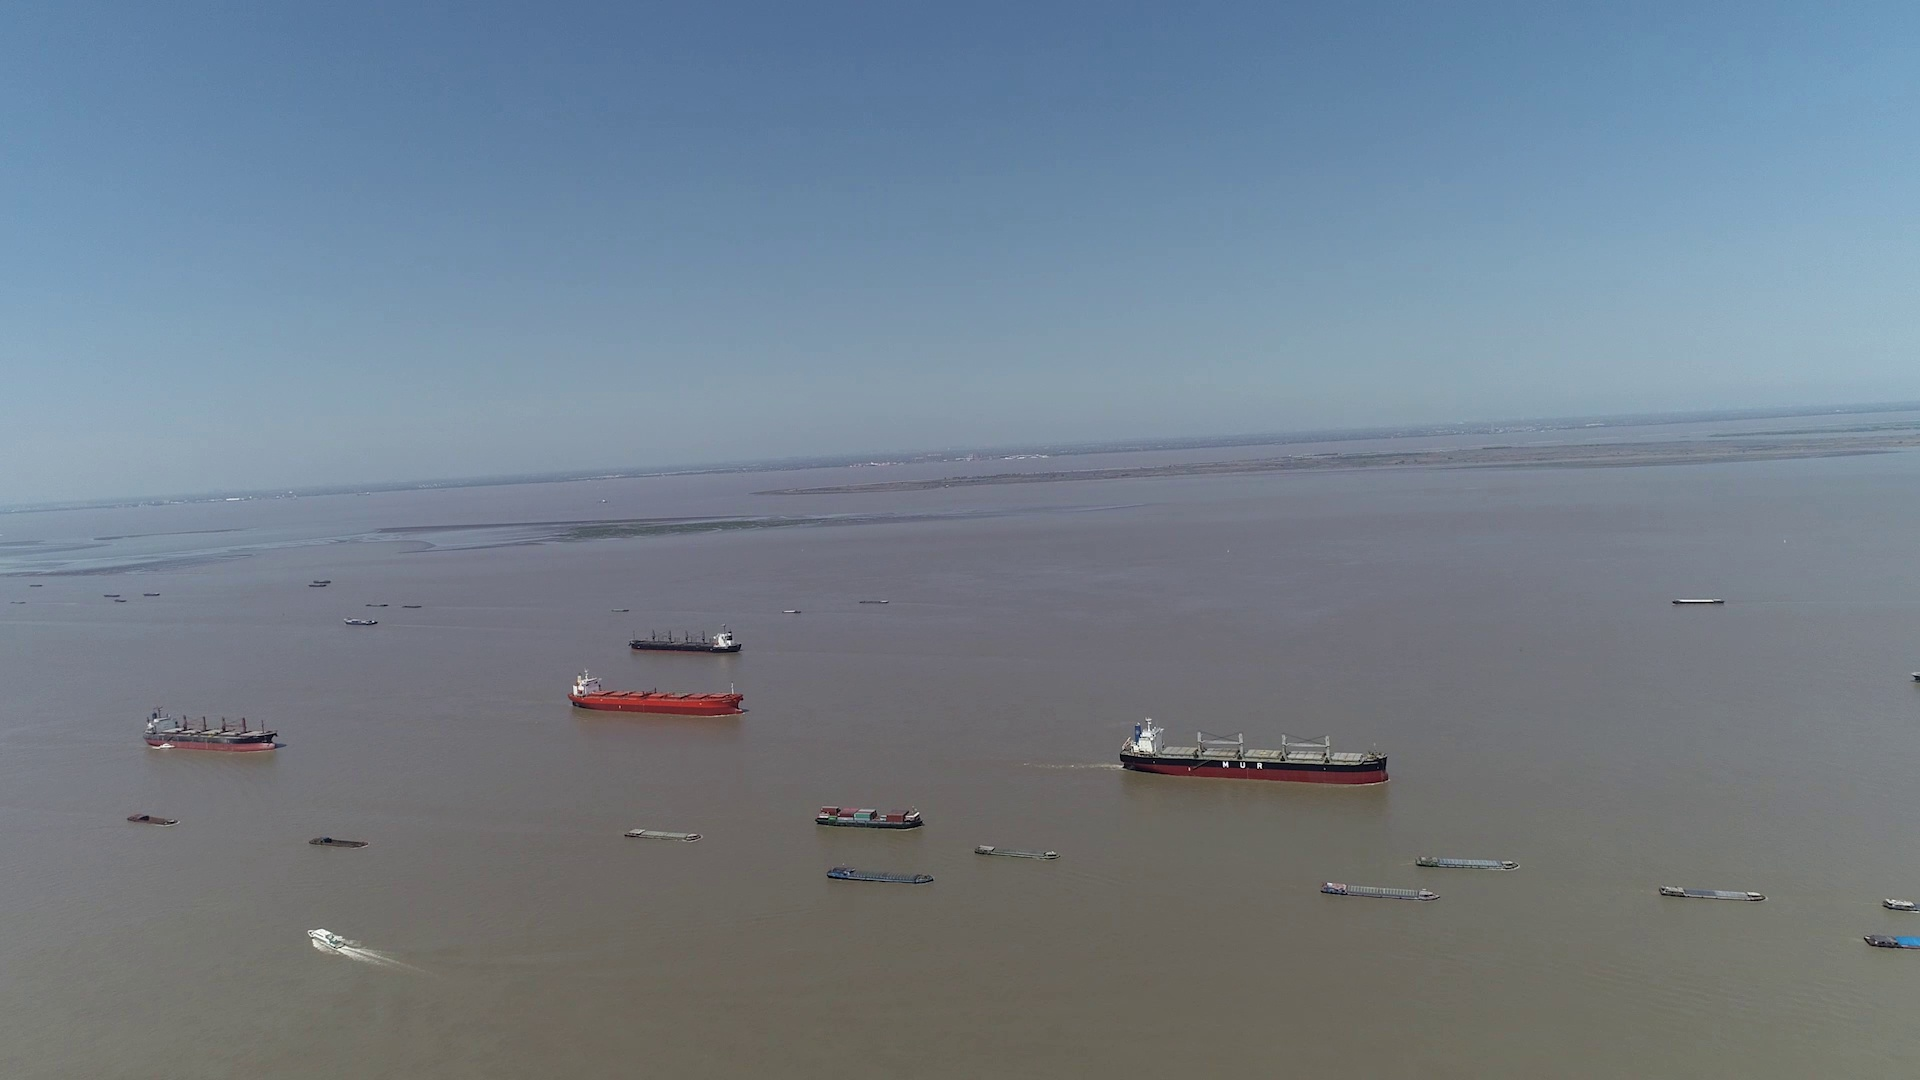ship: (1118, 717, 1387, 785), (567, 671, 742, 717), (144, 705, 276, 752), (632, 626, 742, 654), (816, 804, 924, 829), (1320, 880, 1437, 901), (823, 864, 935, 885), (1659, 884, 1763, 902), (1416, 853, 1516, 872), (973, 843, 1059, 860), (622, 825, 702, 841), (1865, 932, 1919, 953), (307, 928, 345, 949), (309, 837, 372, 848), (127, 812, 175, 825), (1880, 898, 1920, 913), (1672, 597, 1726, 605), (343, 617, 381, 625)
